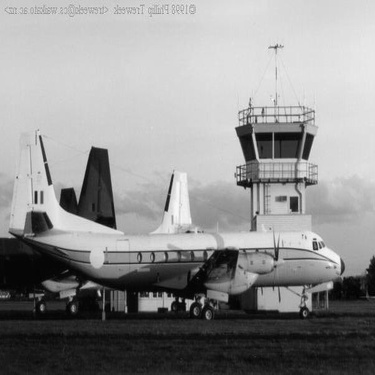airplane: (7, 130, 350, 326)
